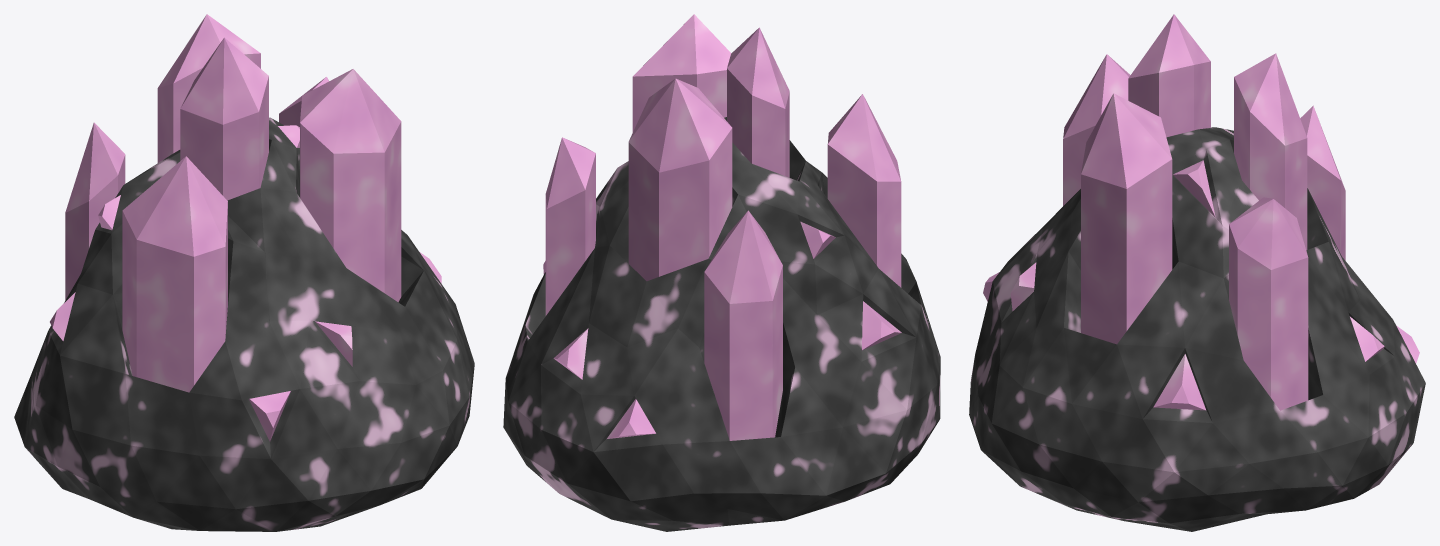
File: Quartz_Ore.fbx
3 renders of one model, left to right at view 1: azimuth 30°, elevation 25°; view 2: azimuth 150°, elevation 25°; view 3: azimuth 270°, elevation 25°, orthographic. The views are drawn at different scales.
Parts seen in each view (by area): view 1: SM_Quartz_Ore; view 2: SM_Quartz_Ore; view 3: SM_Quartz_Ore.
Boxes of the visible parts, left/top/right/bottom form: SM_Quartz_Ore: left=14, top=14, right=474, bottom=531; SM_Quartz_Ore: left=503, top=14, right=940, bottom=531; SM_Quartz_Ore: left=969, top=14, right=1425, bottom=531.
Bounding box in the file's own units: 47.77 × 52.54 × 48.04.
Materials: 2 (2 with a texture image).
